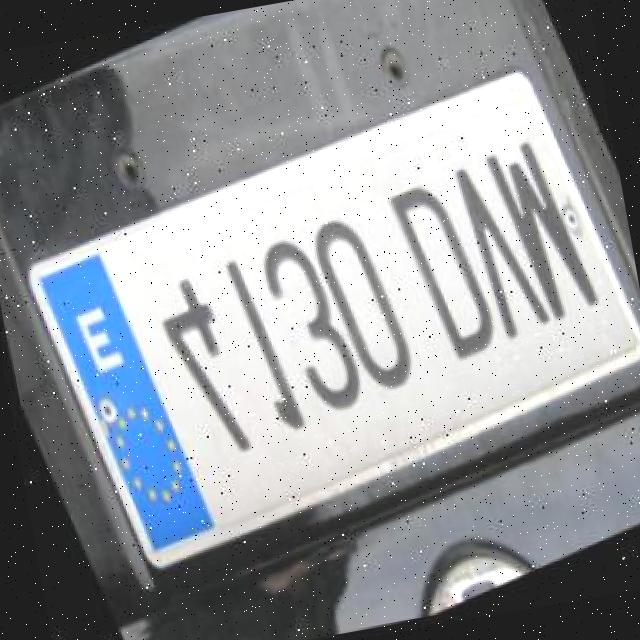EU: (21, 76, 640, 565), (35, 259, 40, 263)
Espagne: (33, 244, 209, 549)
